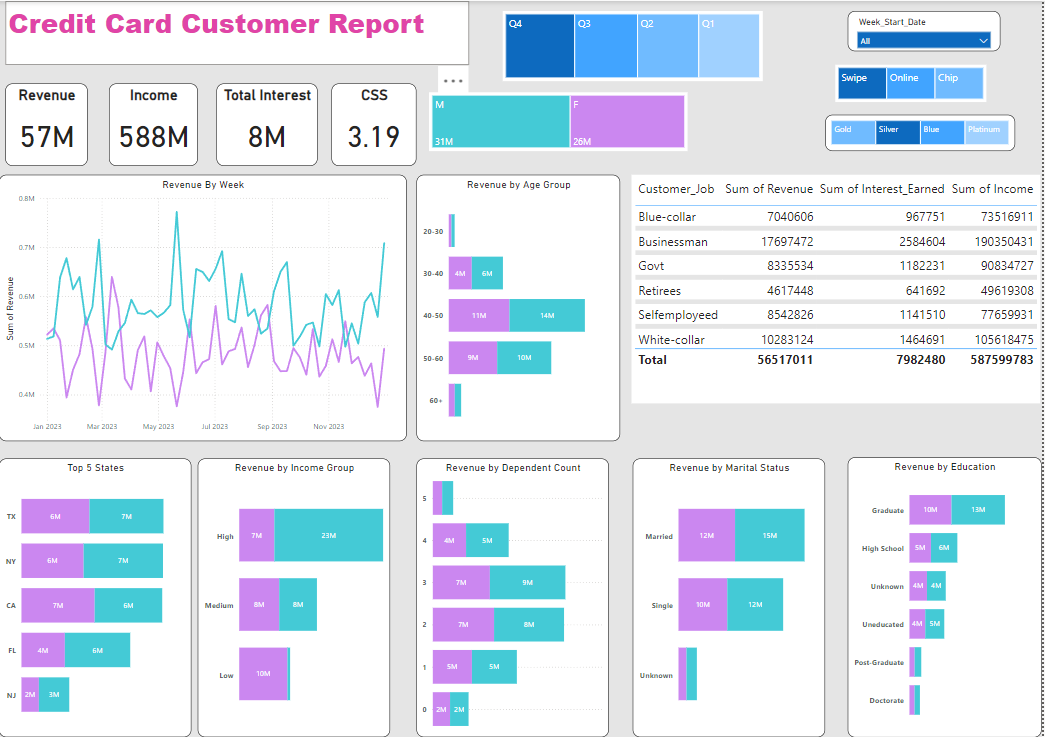

The dashboard page shown, as its layout file describes it:
{"tool":"powerbi","page":{"name":"CC Customer","canvas":[1700,1200],"ordinal":0},"visuals":[{"type":"barChart","title":"Revenue by Income Group","fields":{"Y":["Sum(credit_card.Revenue)"],"Category":["customer.IncomeGroup"],"Series":["customer.Gender"]},"box":[324.1,745.9,313.9,454.5],"z":0},{"type":"card","title":"Revenue","fields":{"Values":["Sum(credit_card.Revenue)"]},"box":[10.2,134.5,134.5,134.5],"z":1000},{"type":"card","title":"Income","fields":{"Values":["Sum(customer.Income)"]},"box":[179.3,134.5,144.7,134.5],"z":2000},{"type":"card","title":"Total Interest","fields":{"Values":["Sum(credit_card.Interest_Earned)"]},"box":[354.6,134.5,165.1,134.5],"z":3000},{"type":"card","title":"CSS","fields":{"Values":["Avg(customer.Cust_Satisfaction_Score)"]},"box":[542.1,134.5,138.6,134.5],"z":4000},{"type":"treemap","fields":{"Values":["Avg(credit_card.Client_Num)"],"Group":["credit_card.Use Chip"]},"box":[1363.5,103.9,246.6,61.1],"z":5000},{"type":"treemap","fields":{"Values":["Avg(credit_card.Client_Num)"],"Group":["credit_card.Card_Category"]},"box":[1347.2,185.5,309.8,59.1],"z":6000},{"type":"lineChart","title":"Revenue By Week","fields":{"Y":["Sum(credit_card.Revenue)"],"Series":["customer.Gender"],"Category":["credit_card.Week_Start_Date.Variation.Date Hierarchy.Year","credit_card.Week_Start_Date.Variation.Date Hierarchy.Month","credit_card.Week_Start_Date.Variation.Date Hierarchy.Day"]},"box":[0,283.3,664.4,434.1],"z":7000},{"type":"treemap","fields":{"Group":["credit_card.Qtr"],"Values":["Avg(credit_card.Client_Num)"]},"box":[821.3,16.3,423.9,114.1],"z":8000},{"type":"tableEx","fields":{"Values":["customer.Customer_Job","Sum(credit_card.Revenue)","Sum(credit_card.Interest_Earned)","Sum(customer.Income)"]},"box":[1031.3,283.3,666.4,373],"z":9000},{"type":"textbox","box":[10.2,0,756.1,103.9],"z":10000},{"type":"slicer","fields":{"Values":["credit_card.Week_Start_Date"]},"box":[1383.8,16.3,248.6,65.2],"z":11000},{"type":"treemap","fields":{"Group":["customer.Gender"],"Values":["Sum(credit_card.Revenue)"]},"box":[701.1,148.8,421.9,95.8],"z":12000},{"type":"barChart","title":"Revenue by Age Group","fields":{"Y":["Sum(credit_card.Revenue)"],"Category":["customer.AgeGroup"],"Series":["customer.Gender"]},"box":[680.7,283.3,332.2,434.1],"z":13000},{"type":"barChart","title":"Revenue by Dependent Count","fields":{"Y":["Sum(credit_card.Revenue)"],"Category":["customer.Dependent_Count"],"Series":["customer.Gender"]},"box":[680.7,745.9,313.9,454.5],"z":14000},{"type":"barChart","title":"Revenue by Education","fields":{"Y":["Sum(credit_card.Revenue)"],"Category":["customer.Education_Level"],"Series":["customer.Gender"]},"box":[1383.8,743.9,315.9,456.5],"z":15000},{"type":"barChart","title":"Revenue by Marital Status","fields":{"Y":["Sum(credit_card.Revenue)"],"Category":["customer.Marital_Status"],"Series":["customer.Gender"]},"box":[1033.3,745.9,313.9,454.5],"z":16000},{"type":"barChart","title":"Top 5 States","fields":{"Y":["Sum(credit_card.Revenue)"],"Category":["customer.state_cd"],"Series":["customer.Gender"]},"box":[0,745.9,313.9,454.5],"z":17000}]}

Visuals, with their boxes in screenshot pixels (x1, y1, x2, y2), scaled from the page's 1700x1200 canvas onto the 1045x737 screenshot:
"Revenue by Income Group" barChart: (x1=199, y1=458, x2=392, y2=736)
"Revenue" card: (x1=6, y1=83, x2=89, y2=165)
"Income" card: (x1=110, y1=83, x2=199, y2=165)
"Total Interest" card: (x1=218, y1=83, x2=319, y2=165)
"CSS" card: (x1=333, y1=83, x2=418, y2=165)
treemap - Avg(credit_card.Client_Num) x credit_card.Use Chip: (x1=838, y1=64, x2=990, y2=101)
treemap - Avg(credit_card.Client_Num) x credit_card.Card_Category: (x1=828, y1=114, x2=1019, y2=150)
"Revenue By Week" lineChart: (x1=0, y1=174, x2=408, y2=441)
treemap - credit_card.Qtr x Avg(credit_card.Client_Num): (x1=505, y1=10, x2=765, y2=80)
tableEx - customer.Customer_Job x Sum(credit_card.Revenue): (x1=634, y1=174, x2=1044, y2=403)
textbox: (x1=6, y1=0, x2=471, y2=64)
slicer - credit_card.Week_Start_Date: (x1=851, y1=10, x2=1003, y2=50)
treemap - customer.Gender x Sum(credit_card.Revenue): (x1=431, y1=91, x2=690, y2=150)
"Revenue by Age Group" barChart: (x1=418, y1=174, x2=623, y2=441)
"Revenue by Dependent Count" barChart: (x1=418, y1=458, x2=611, y2=736)
"Revenue by Education" barChart: (x1=851, y1=457, x2=1044, y2=736)
"Revenue by Marital Status" barChart: (x1=635, y1=458, x2=828, y2=736)
"Top 5 States" barChart: (x1=0, y1=458, x2=193, y2=736)
